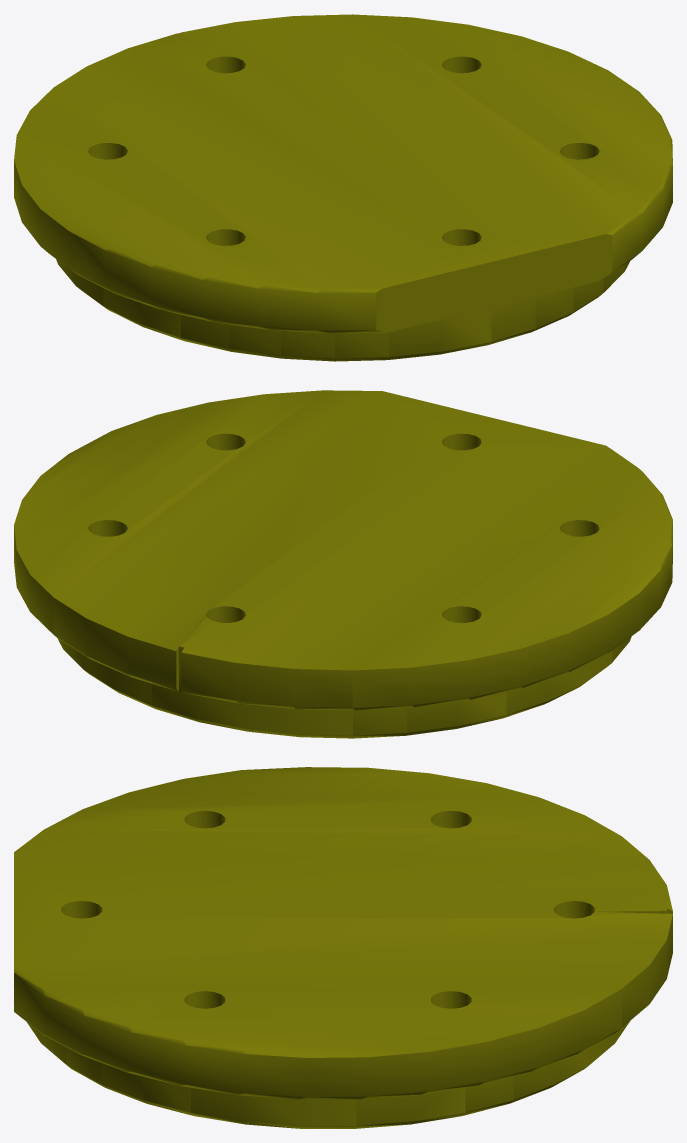
3 views of the same model, one above another, from view 1: azimuth 30°, elevation 25°; view 2: azimuth 150°, elevation 25°; view 3: azimuth 270°, elevation 25° (orthographic). The views are drawn at different scales.
Visible parts, largest first — view 1: mesh_shell_11__LOD_0_.001; view 2: mesh_shell_11__LOD_0_.001; view 3: mesh_shell_11__LOD_0_.001.
Boxes of the visible parts, left/top/right/bottom form: mesh_shell_11__LOD_0_.001: left=14, top=14, right=672, bottom=361; mesh_shell_11__LOD_0_.001: left=14, top=390, right=672, bottom=738; mesh_shell_11__LOD_0_.001: left=14, top=767, right=672, bottom=1128.
Bounding box in the file's own units: 0.1118 × 0.107 × 0.0165.
